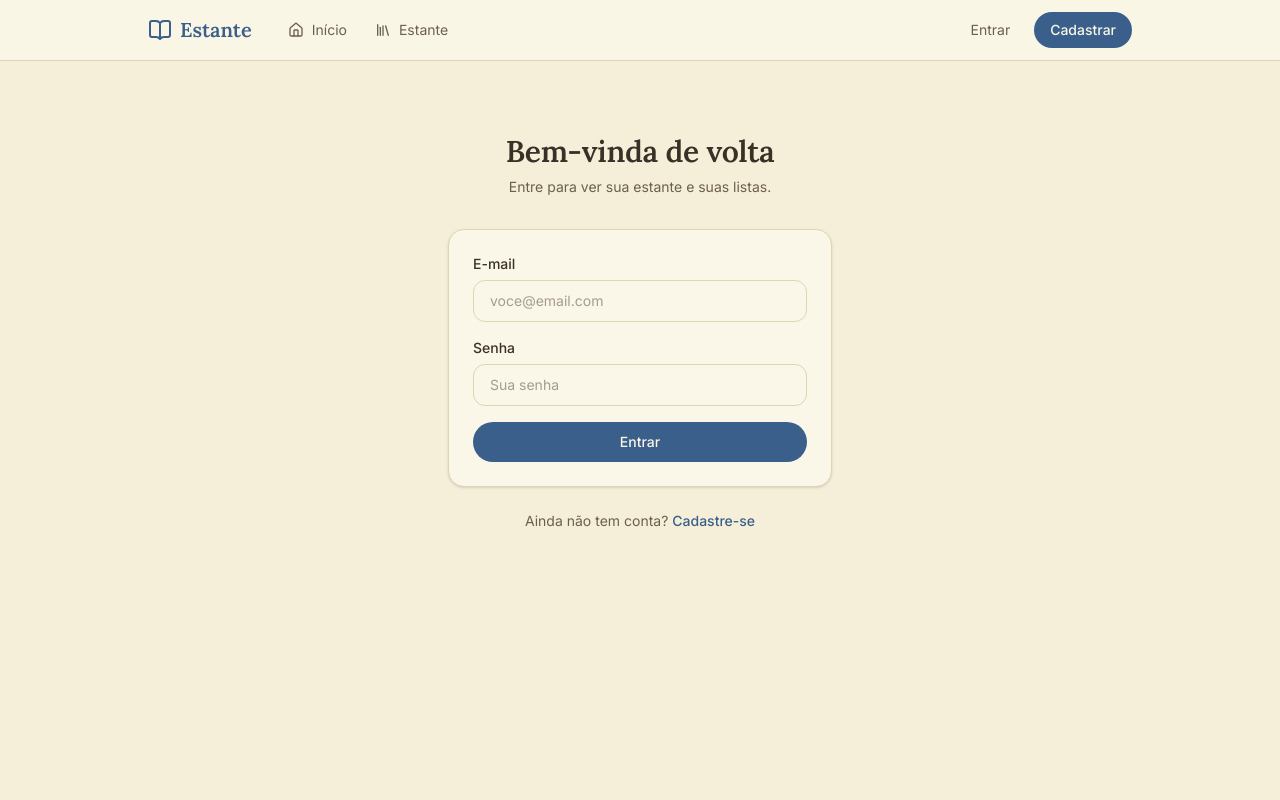
Scenario: validação do login › explica quando o e-mail é inválido
In the field labelled "E-mail": (640, 301) [473,280,807,322], type "ana"
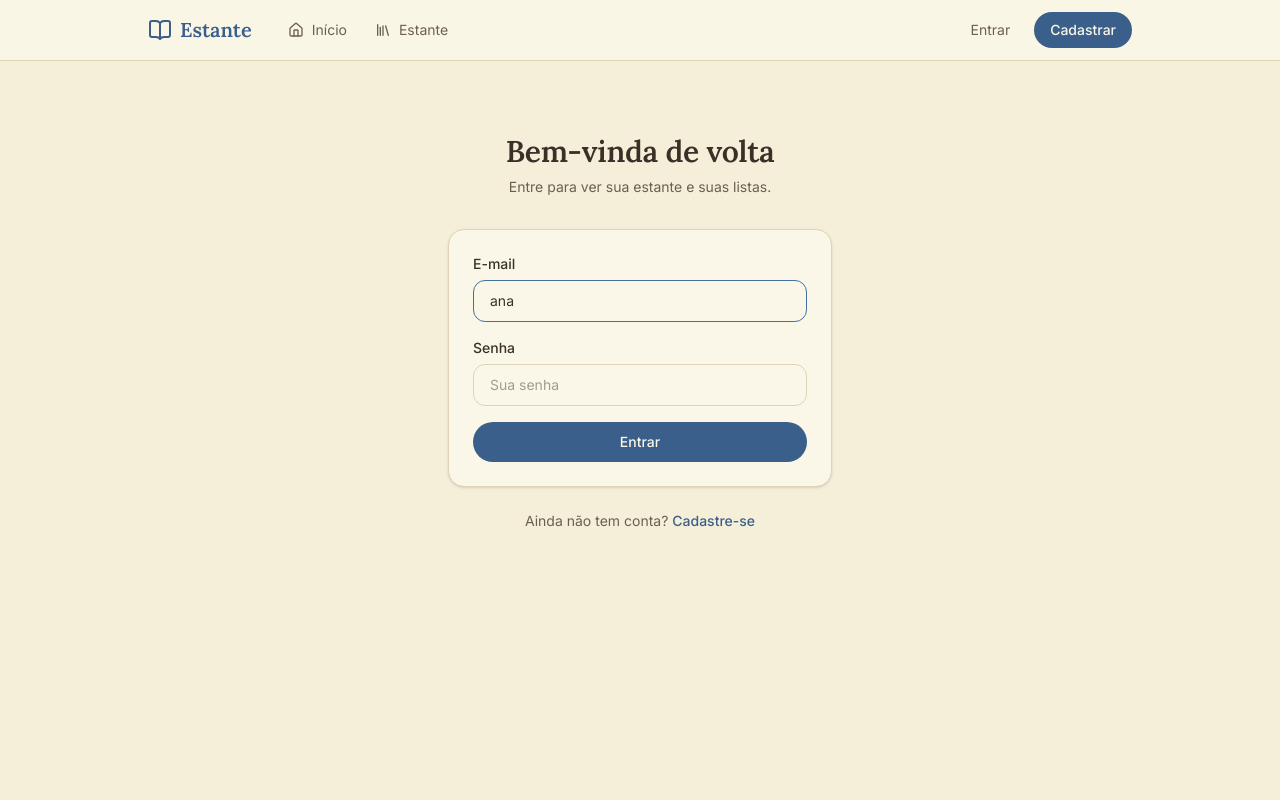
In the password field labelled "Senha": (640, 385) [473,364,807,406], type "senha123"
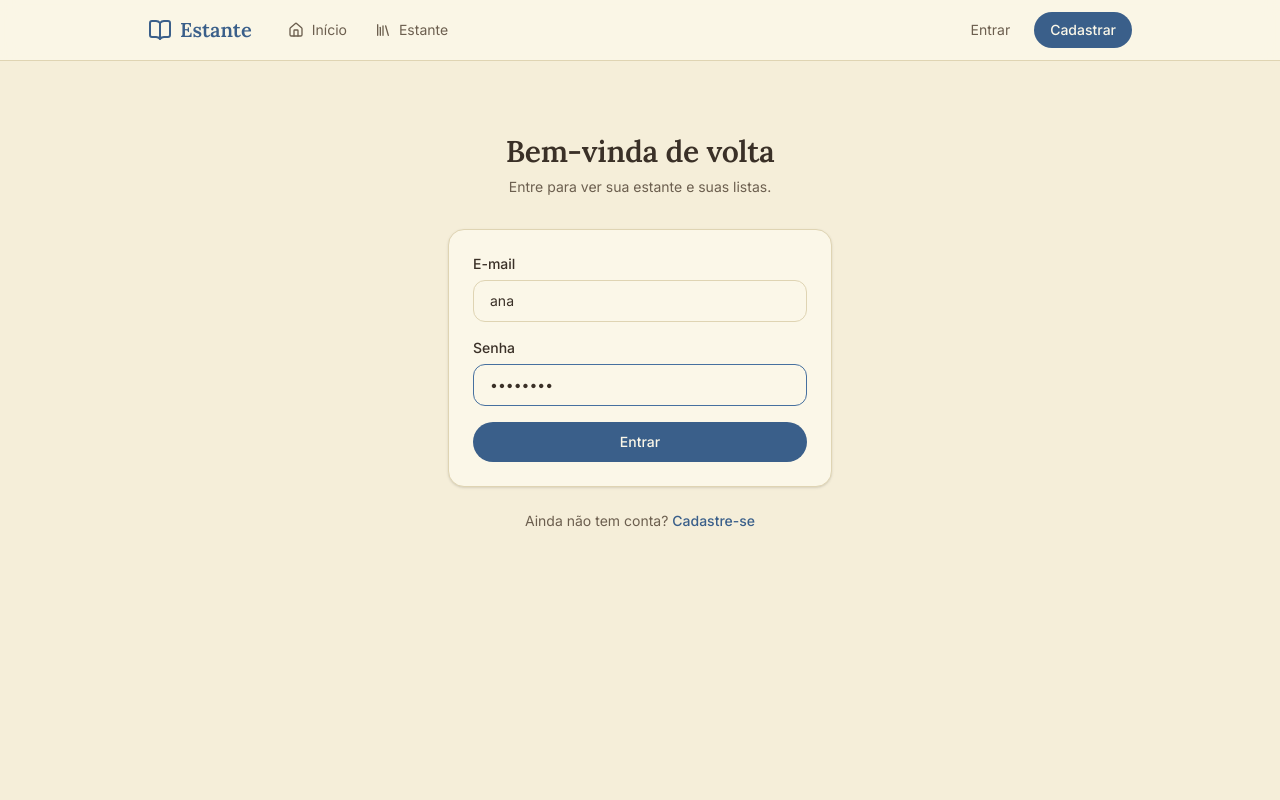
Click the button "Entrar": (640, 442) [473,422,807,462]
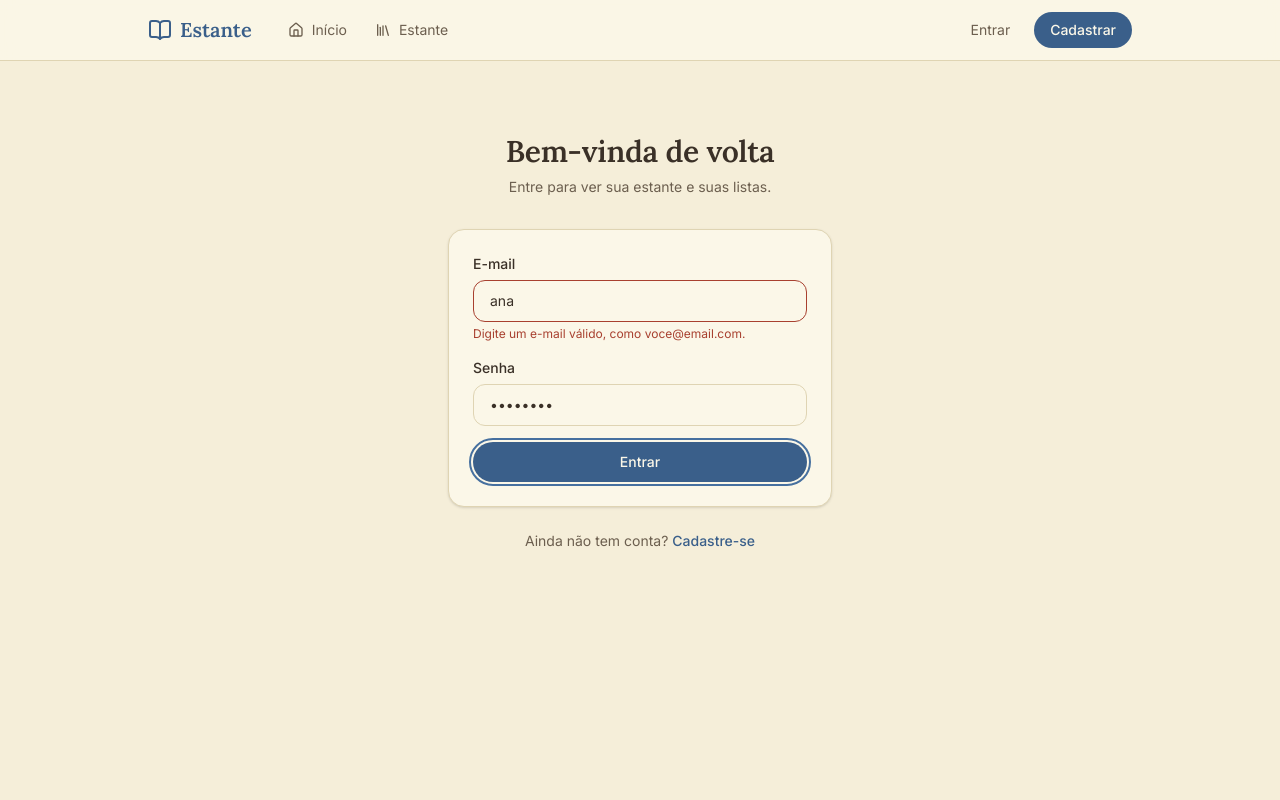
Expected: the text "Digite um e-mail válido, como voce@email.com." is shown, [473,326,745,341]
